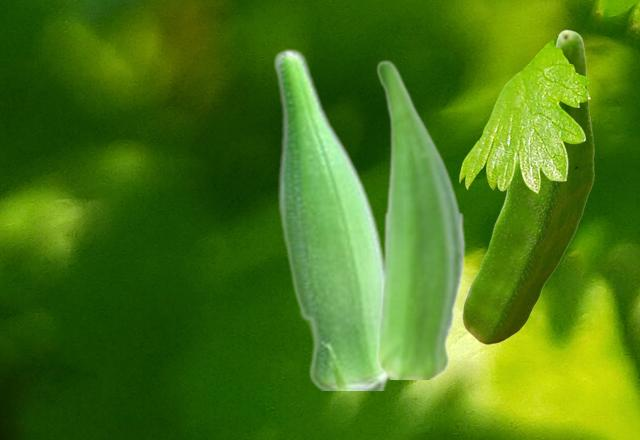okra: (462, 29, 593, 343), (272, 48, 391, 389), (375, 59, 465, 378)
